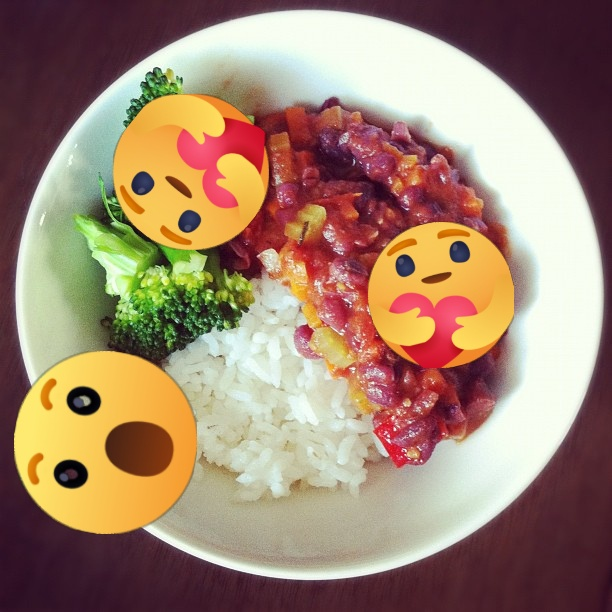care: (113, 94, 269, 250), (368, 222, 514, 368)
wow: (14, 351, 197, 534)
